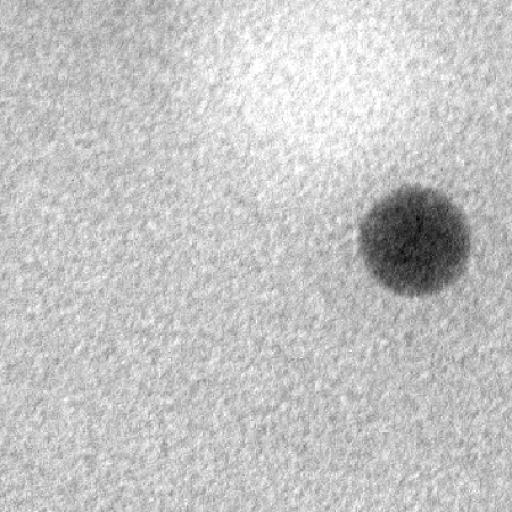Nanoparticles: (355, 182, 473, 297)
